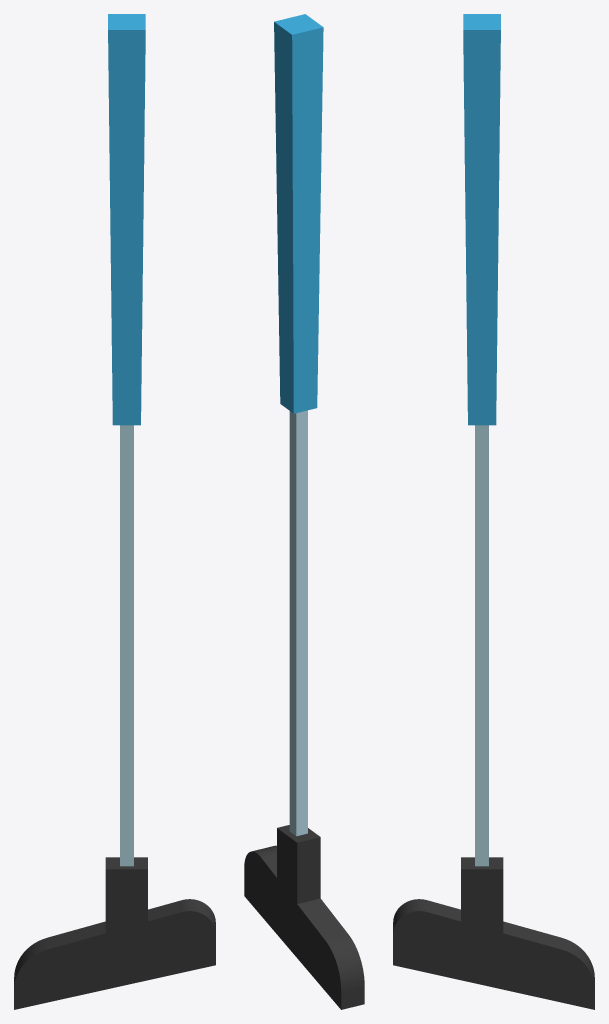
File: club_blue.fbx
3 views of the same model, side by side, from view 1: azimuth 90°, elevation 25°; view 2: azimuth 210°, elevation 25°; view 3: azimuth 270°, elevation 25° (orthographic). The views are drawn at different scales.
Visible parts, largest first — view 1: club_blue; view 2: club_blue; view 3: club_blue.
Part boxes in pixels (x1,y1,x2,y2): club_blue: (14, 14, 215, 1009); club_blue: (244, 14, 364, 1009); club_blue: (393, 14, 594, 1009).
Size of the model in its own units: 0.3453 by 9.9 by 1.84.
